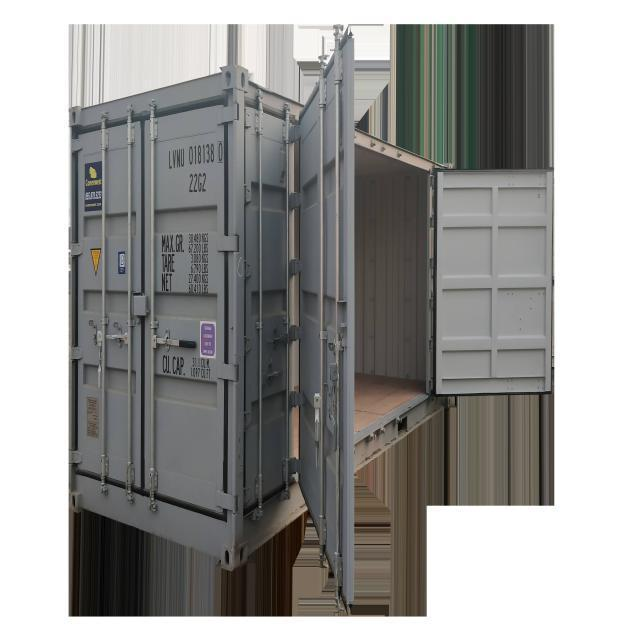ISO: (186, 172, 210, 194)
container_number: (164, 144, 221, 169)
